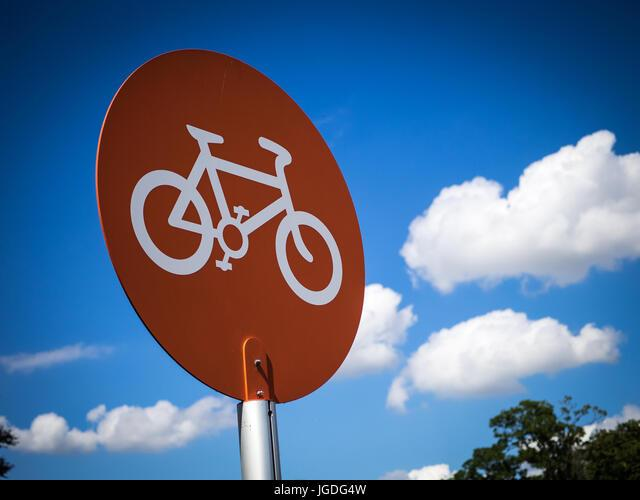Parking Lot Cycle: (96, 98, 373, 320)
